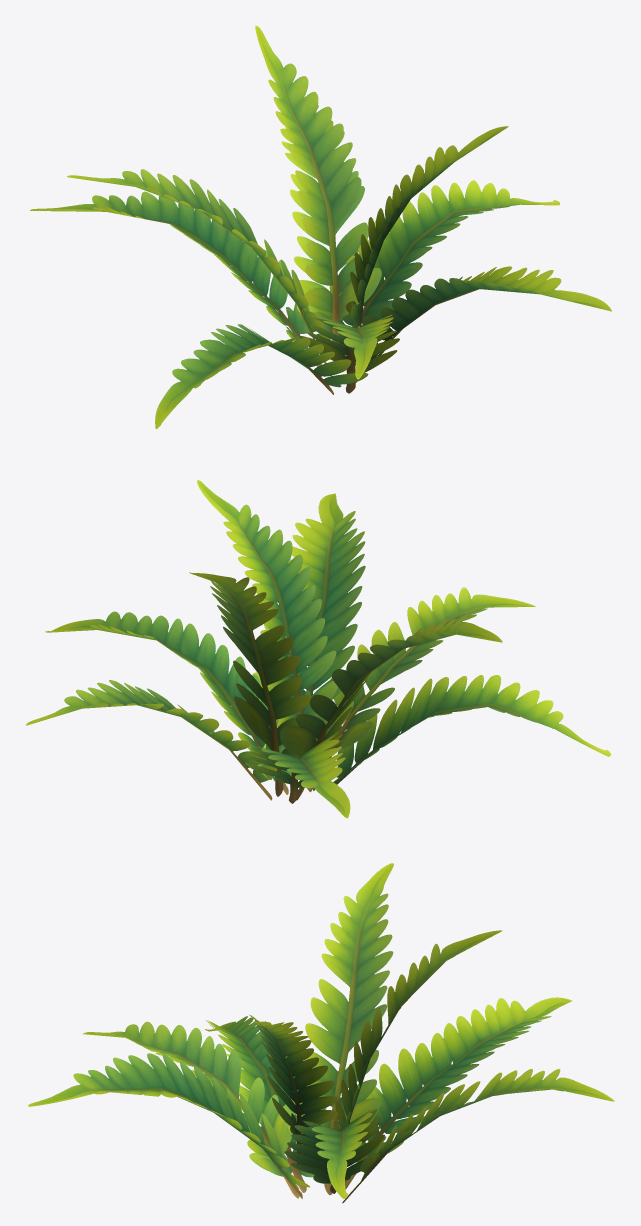
3 renders of one model, top to bottom at view 1: azimuth 30°, elevation 25°; view 2: azimuth 150°, elevation 25°; view 3: azimuth 270°, elevation 25°, orthographic. The views are drawn at different scales.
Parts seen in each view (by area): view 1: pl-fern-sword-b; view 2: pl-fern-sword-b; view 3: pl-fern-sword-b.
Boxes of the visible parts, x1=… form: pl-fern-sword-b: x1=30, y1=25, x2=611, y2=429; pl-fern-sword-b: x1=26, y1=480, x2=611, y2=818; pl-fern-sword-b: x1=28, y1=863, x2=614, y2=1203.
Bounding box in the file's own units: 2.32 × 1.3 × 2.55.
1 material, 1 textured.
